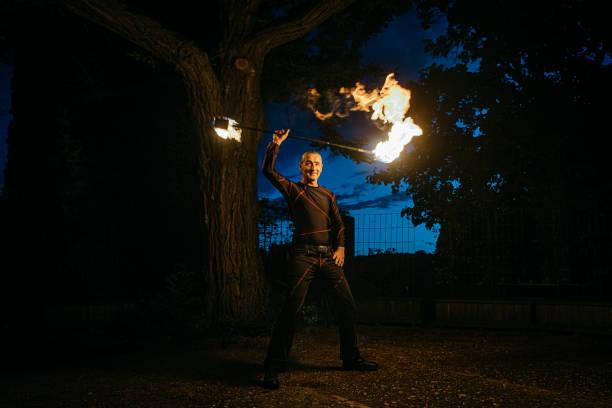Fire: (319, 68, 435, 162)
